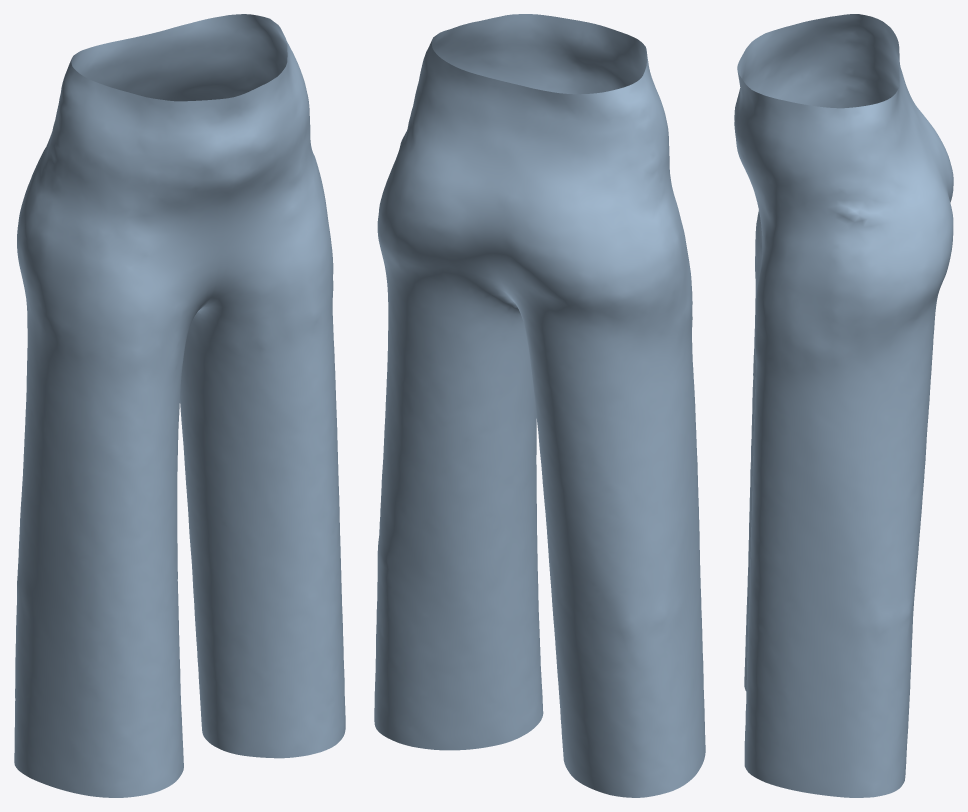
File: trousers_XL.glb
3 views of the same model, side by side, from view 1: azimuth 30°, elevation 25°; view 2: azimuth 150°, elevation 25°; view 3: azimuth 270°, elevation 25° (orthographic). The views are drawn at different scales.
Parts seen in each view (by area): view 1: geometry_0; view 2: geometry_0; view 3: geometry_0.
Part boxes in pixels (x1,y1,x2,y2): geometry_0: [14, 14, 345, 797]; geometry_0: [374, 14, 705, 797]; geometry_0: [734, 14, 953, 797].
Bounding box in the file's own units: 0.4683 × 1.02 × 0.3014.
